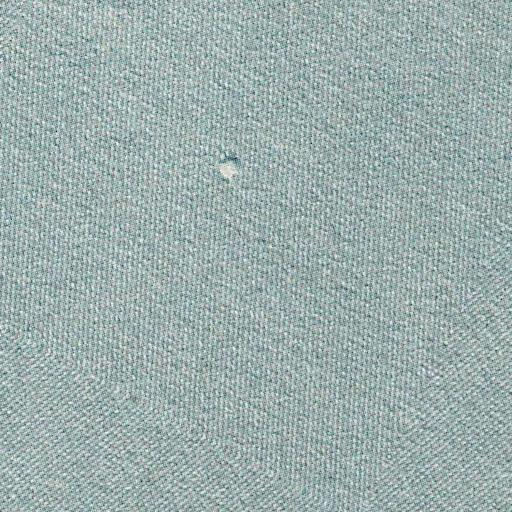knot: (204, 143, 263, 192)
